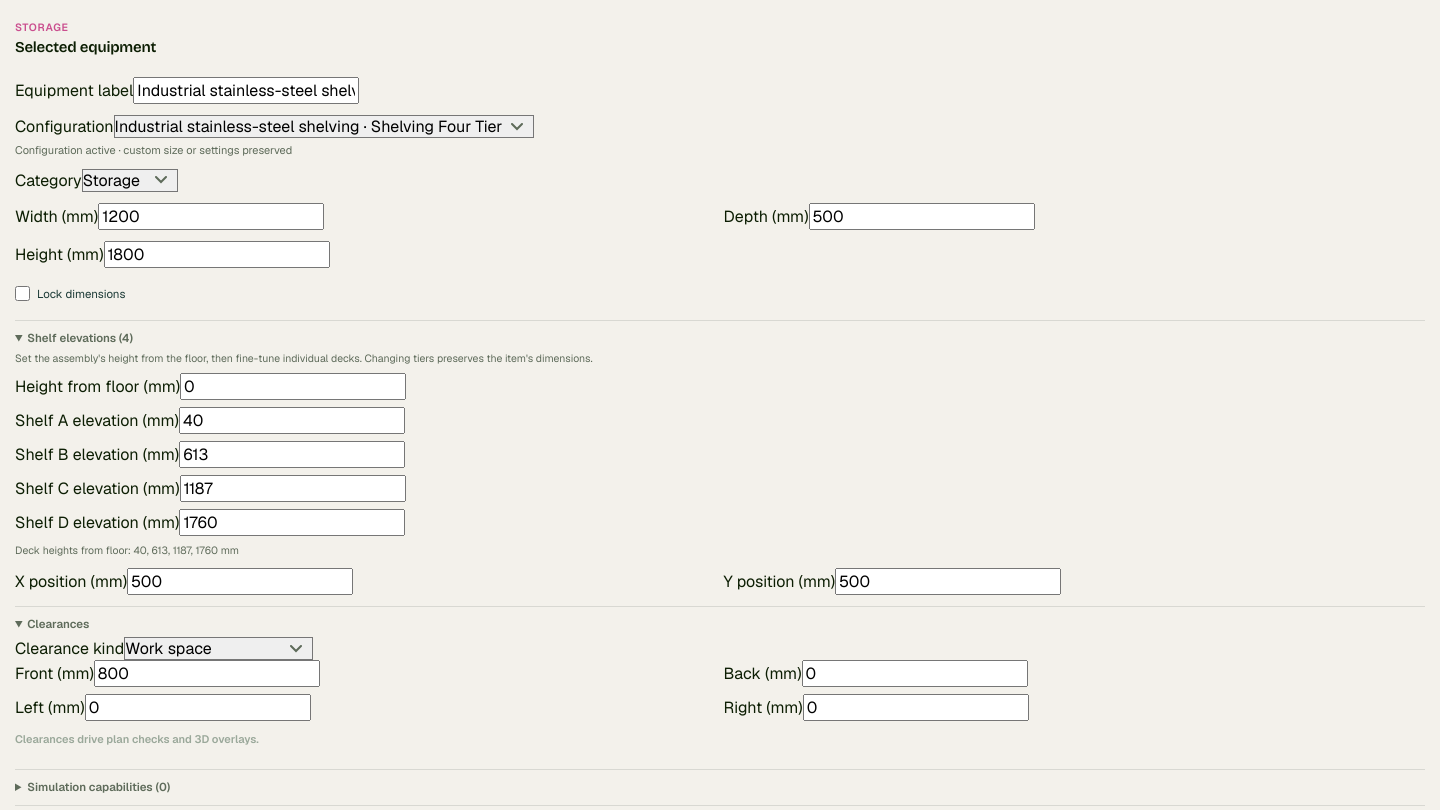
Test: moves a complete shelf assembly to an explicit height from the floor
Replace the text in the field labelled "Height from floor (mm)" with "900" at {"x": 293, "y": 386}, box [180,372,406,400]
Then press Enter
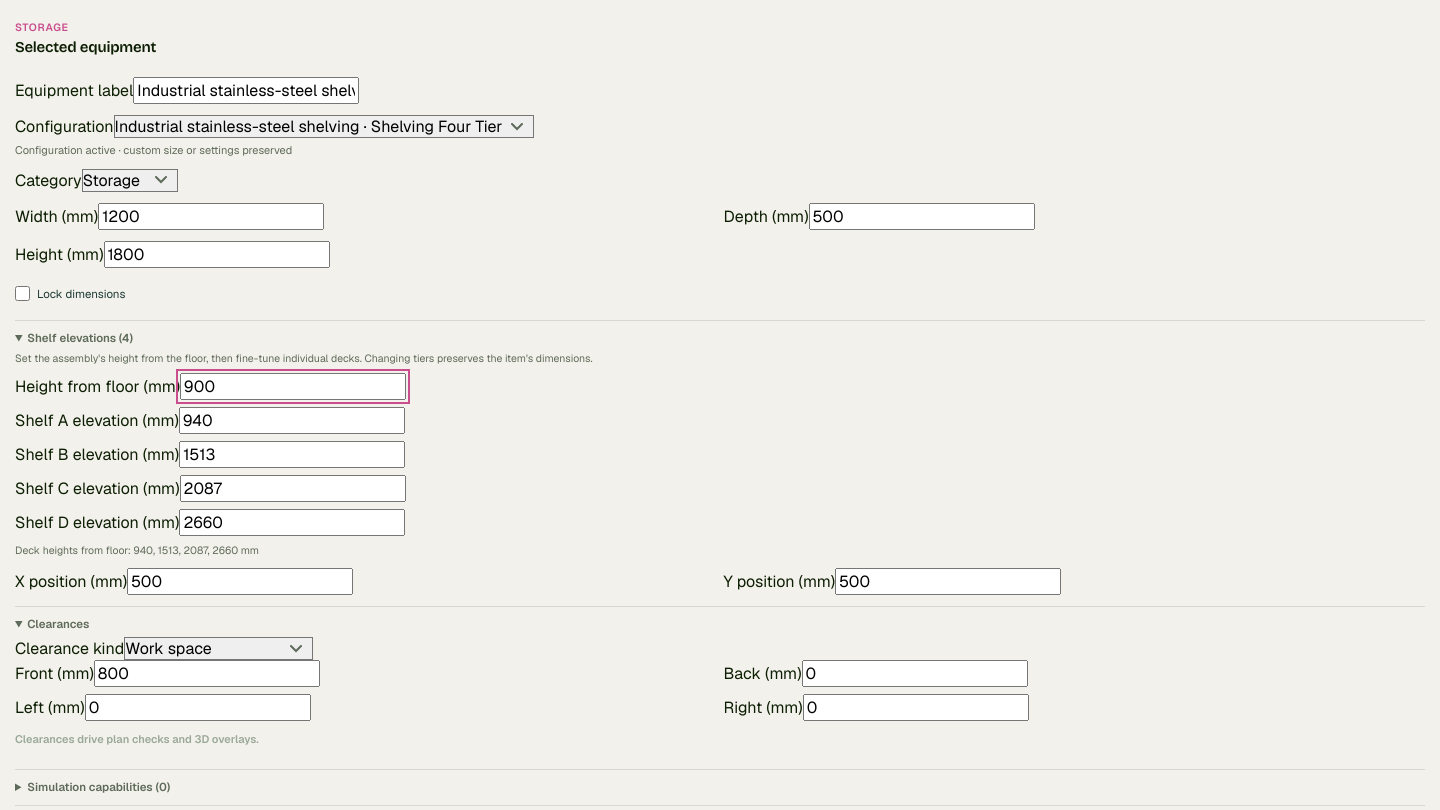
Now the field labelled "Shelf A elevation (mm)" holds "940", box [179,406,405,434]
